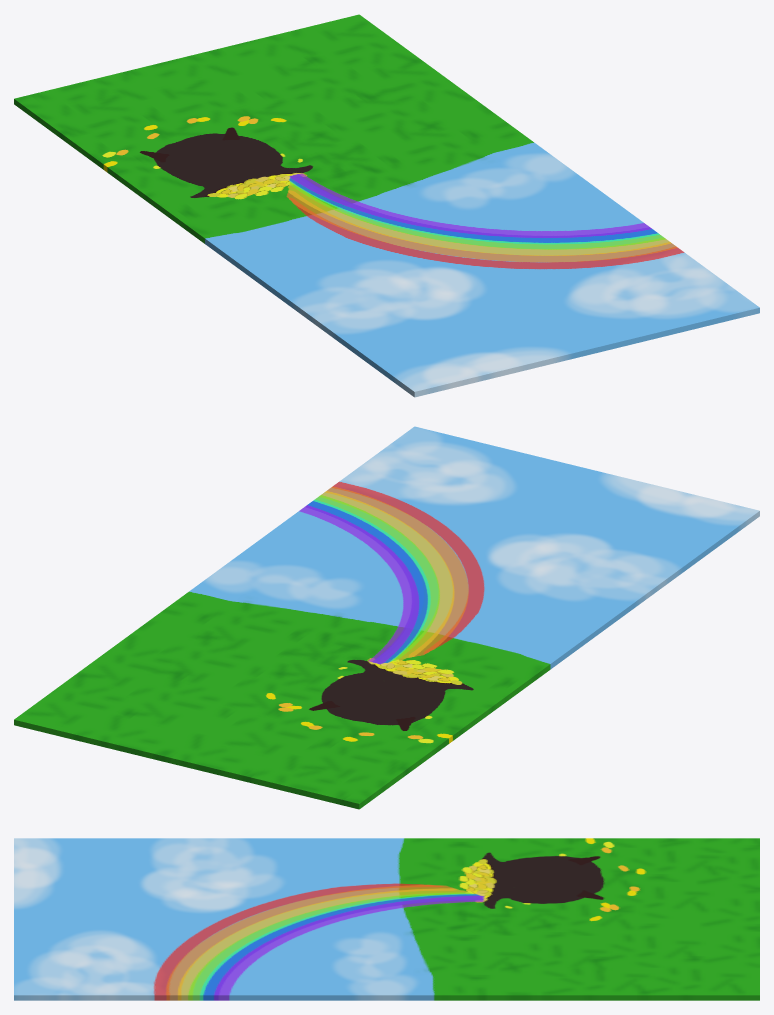
File: deckeOrdentlich.fbx
3 views of the same model, one above another, from view 1: azimuth 30°, elevation 25°; view 2: azimuth 150°, elevation 25°; view 3: azimuth 270°, elevation 25° (orthographic). The views are drawn at different scales.
Parts seen in each view (by area): view 1: Plane; view 2: Plane; view 3: Plane.
Part boxes in pixels (left/top/right/bottom): Plane: left=14, top=14, right=759, bottom=397; Plane: left=14, top=426, right=759, bottom=809; Plane: left=14, top=838, right=759, bottom=1000.
Bounding box in the file's own units: 200 × 3.1 × 402.
